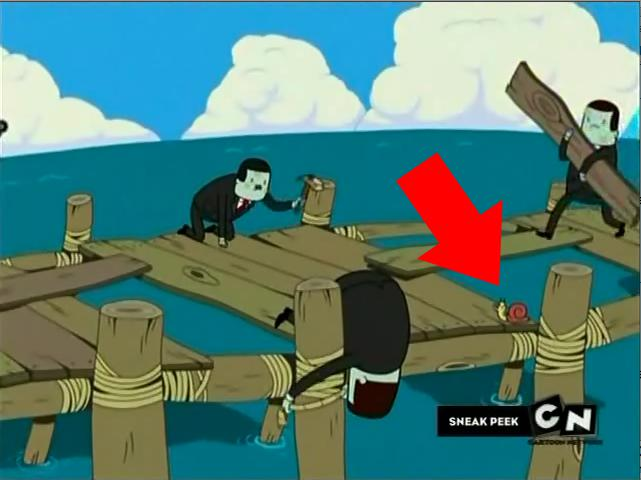snail: (492, 294, 531, 324)
